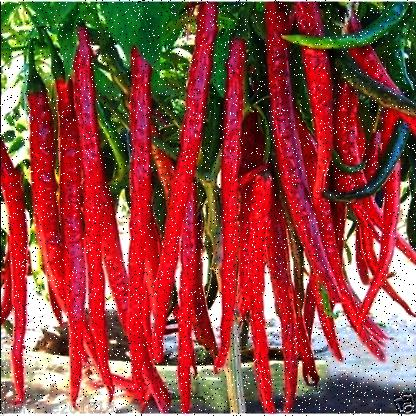chilli: (74, 32, 120, 404), (262, 8, 324, 252), (14, 78, 77, 310), (212, 34, 248, 374), (126, 46, 153, 400)
